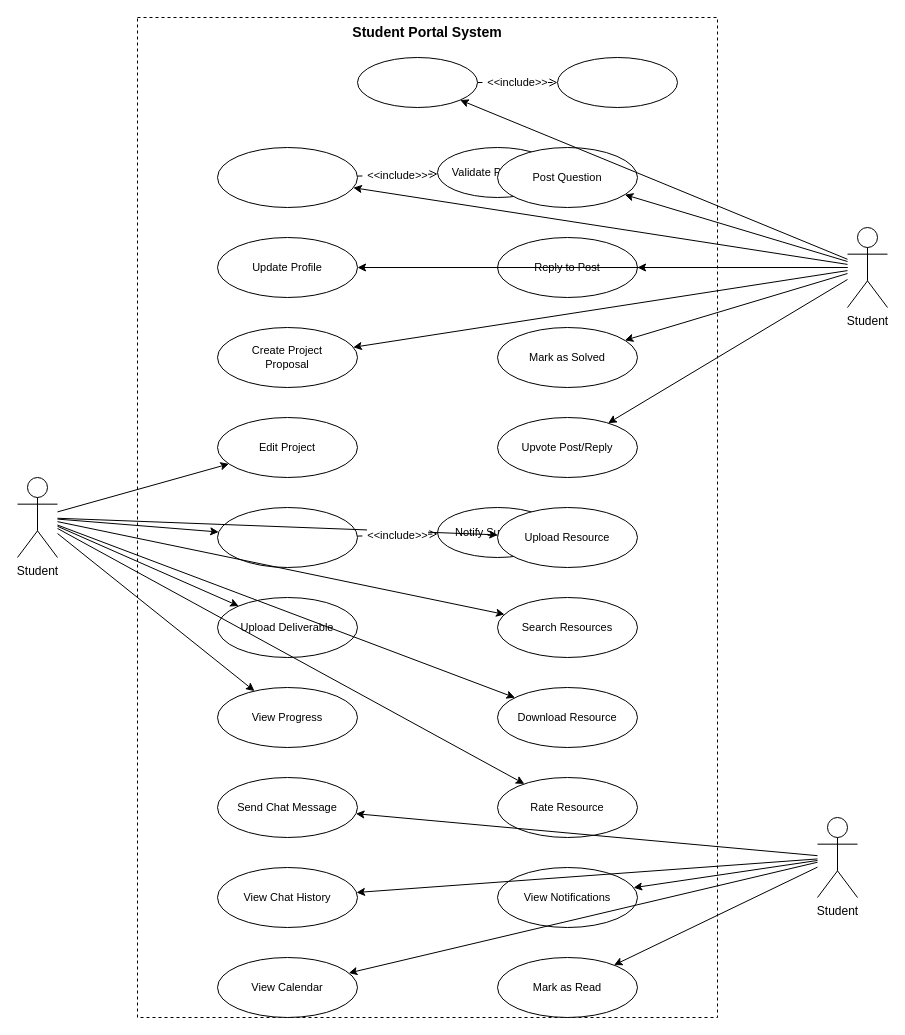
This 905x1035 diagram has some shape labels left out. The centre of each missing label's shape, as x and y in pixels:
"Authenticate User" belongs at point 617,82.
"Change Password (First Login)" belongs at point 287,177.
"Login" belongs at point 417,82.
"Submit for Review" belongs at point 287,537.
